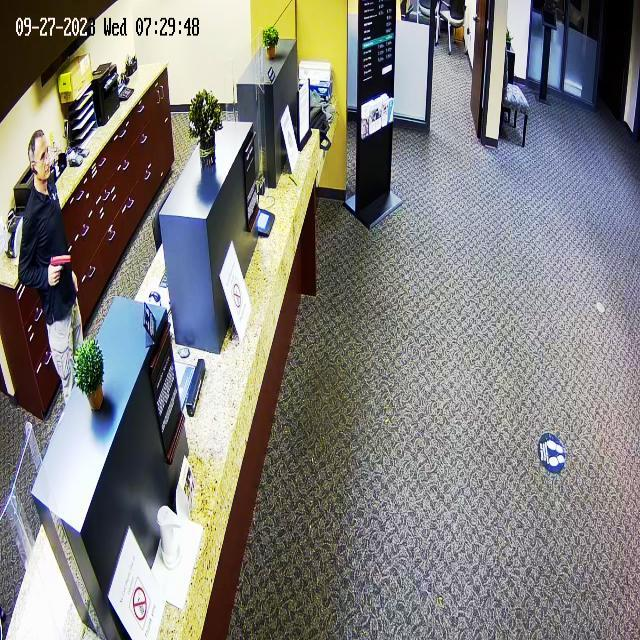Gun: (48, 245, 80, 279)
